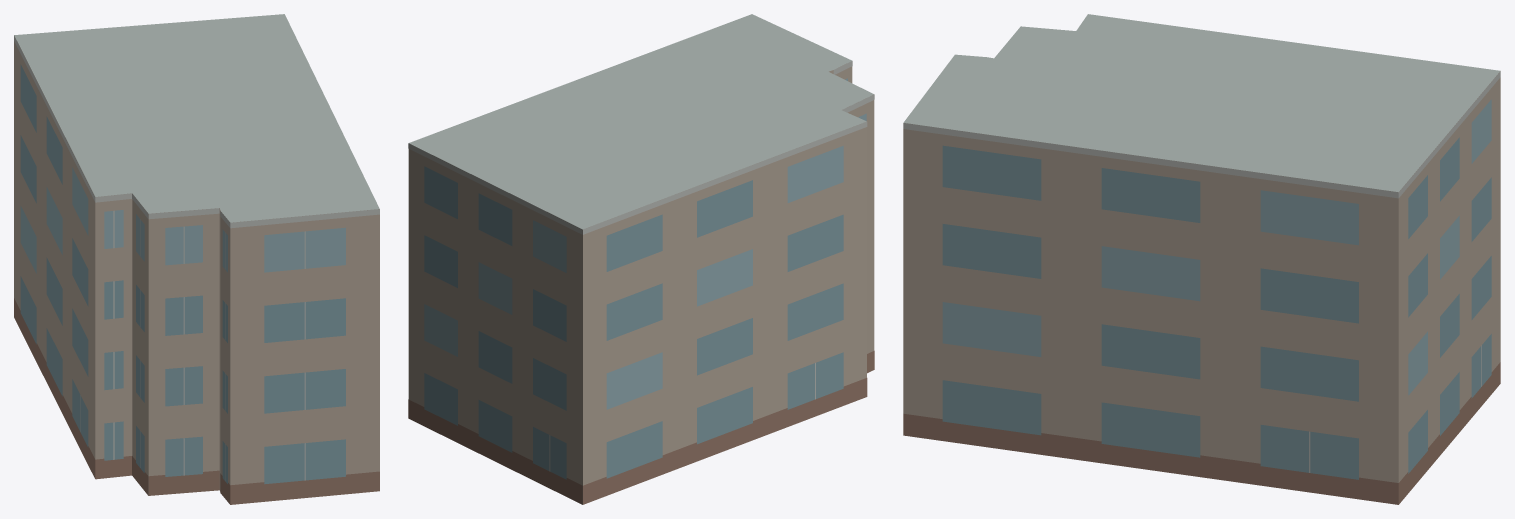
Rendered from survey-upis-32915683.glb.
3 views of the same model, side by side, from view 1: azimuth 30°, elevation 25°; view 2: azimuth 150°, elevation 25°; view 3: azimuth 270°, elevation 25° (orthographic). The views are drawn at different scales.
Visible parts, largest first — view 1: survey-upis-32915683.tmp; view 2: survey-upis-32915683.tmp; view 3: survey-upis-32915683.tmp.
Part boxes in pixels (x1,y1,x2,y2): survey-upis-32915683.tmp: [14, 14, 379, 504]; survey-upis-32915683.tmp: [408, 14, 874, 504]; survey-upis-32915683.tmp: [903, 14, 1500, 504].
Size of the model in its own units: 15.04 by 12.3 by 21.31.
